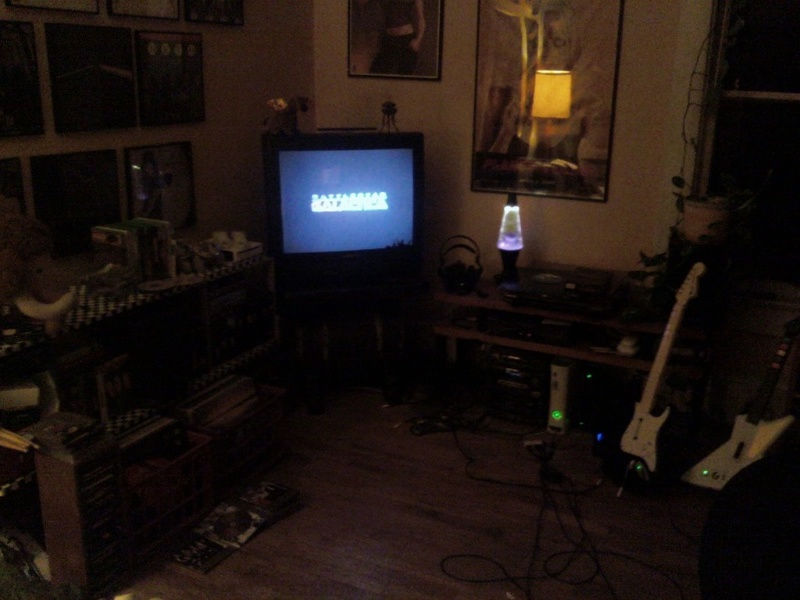tv: (254, 130, 430, 279)
